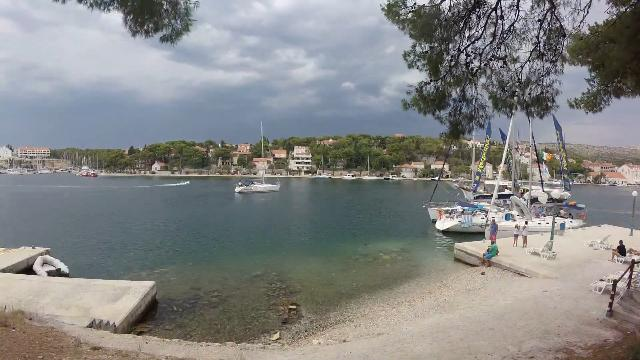Sailboat: (231, 172, 287, 198)
speedboat: (172, 178, 194, 190)
